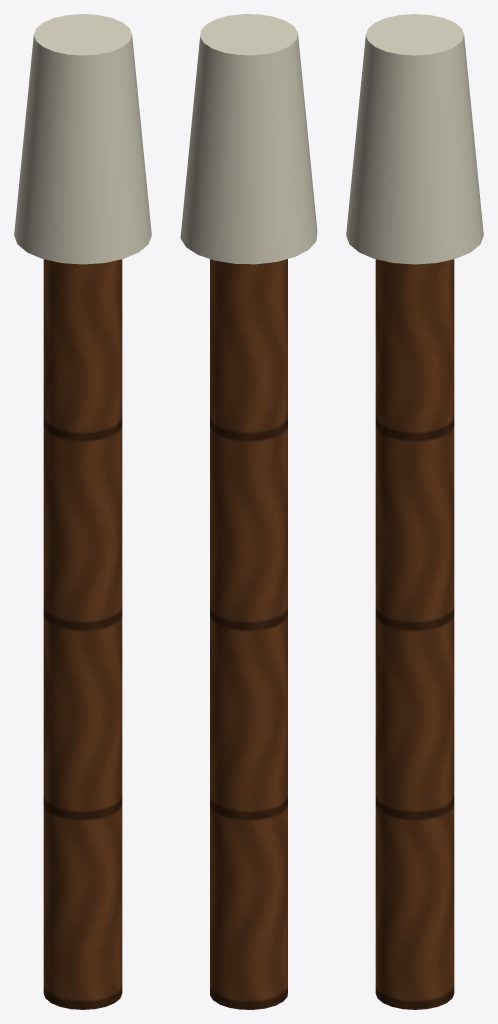
File: survival-greenhouse-and-irrigation-hand-pollination-br-131e0c2d__21337.glb
3 renders of one model, left to right at view 1: azimuth 90°, elevation 25°; view 2: azimuth 150°, elevation 25°; view 3: azimuth 270°, elevation 25°, orthographic.
Visible parts, largest first — view 1: hand-pollination-brush; view 2: hand-pollination-brush; view 3: hand-pollination-brush.
Part boxes in pixels (x1,y1,x2,y2): hand-pollination-brush: (14, 14, 151, 1009); hand-pollination-brush: (180, 14, 317, 1009); hand-pollination-brush: (346, 14, 483, 1009).
Size of the model in its own units: 0.028 by 0.215 by 0.028.
Materials: 2 (1 with a texture image).
